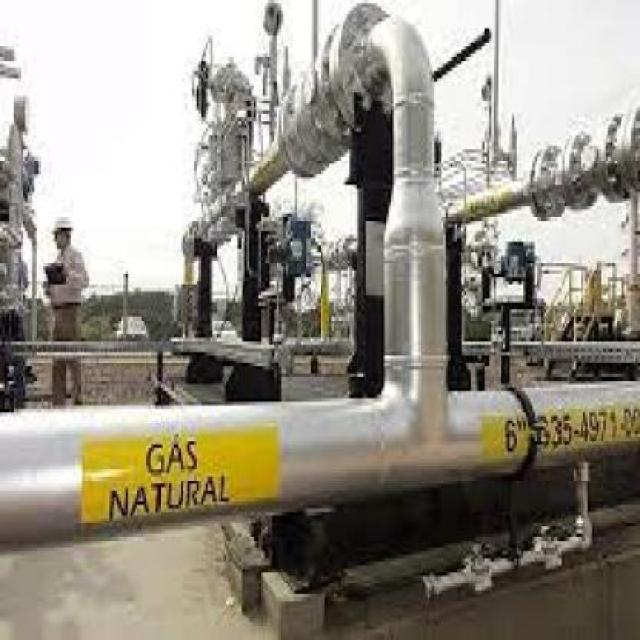gas: (4, 382, 639, 546), (184, 23, 398, 249), (433, 461, 593, 599), (386, 35, 446, 387), (448, 113, 640, 222)
